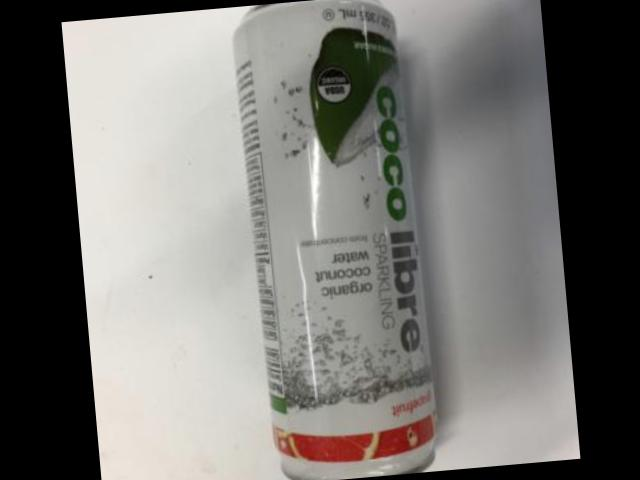metal: (231, 0, 432, 480)
